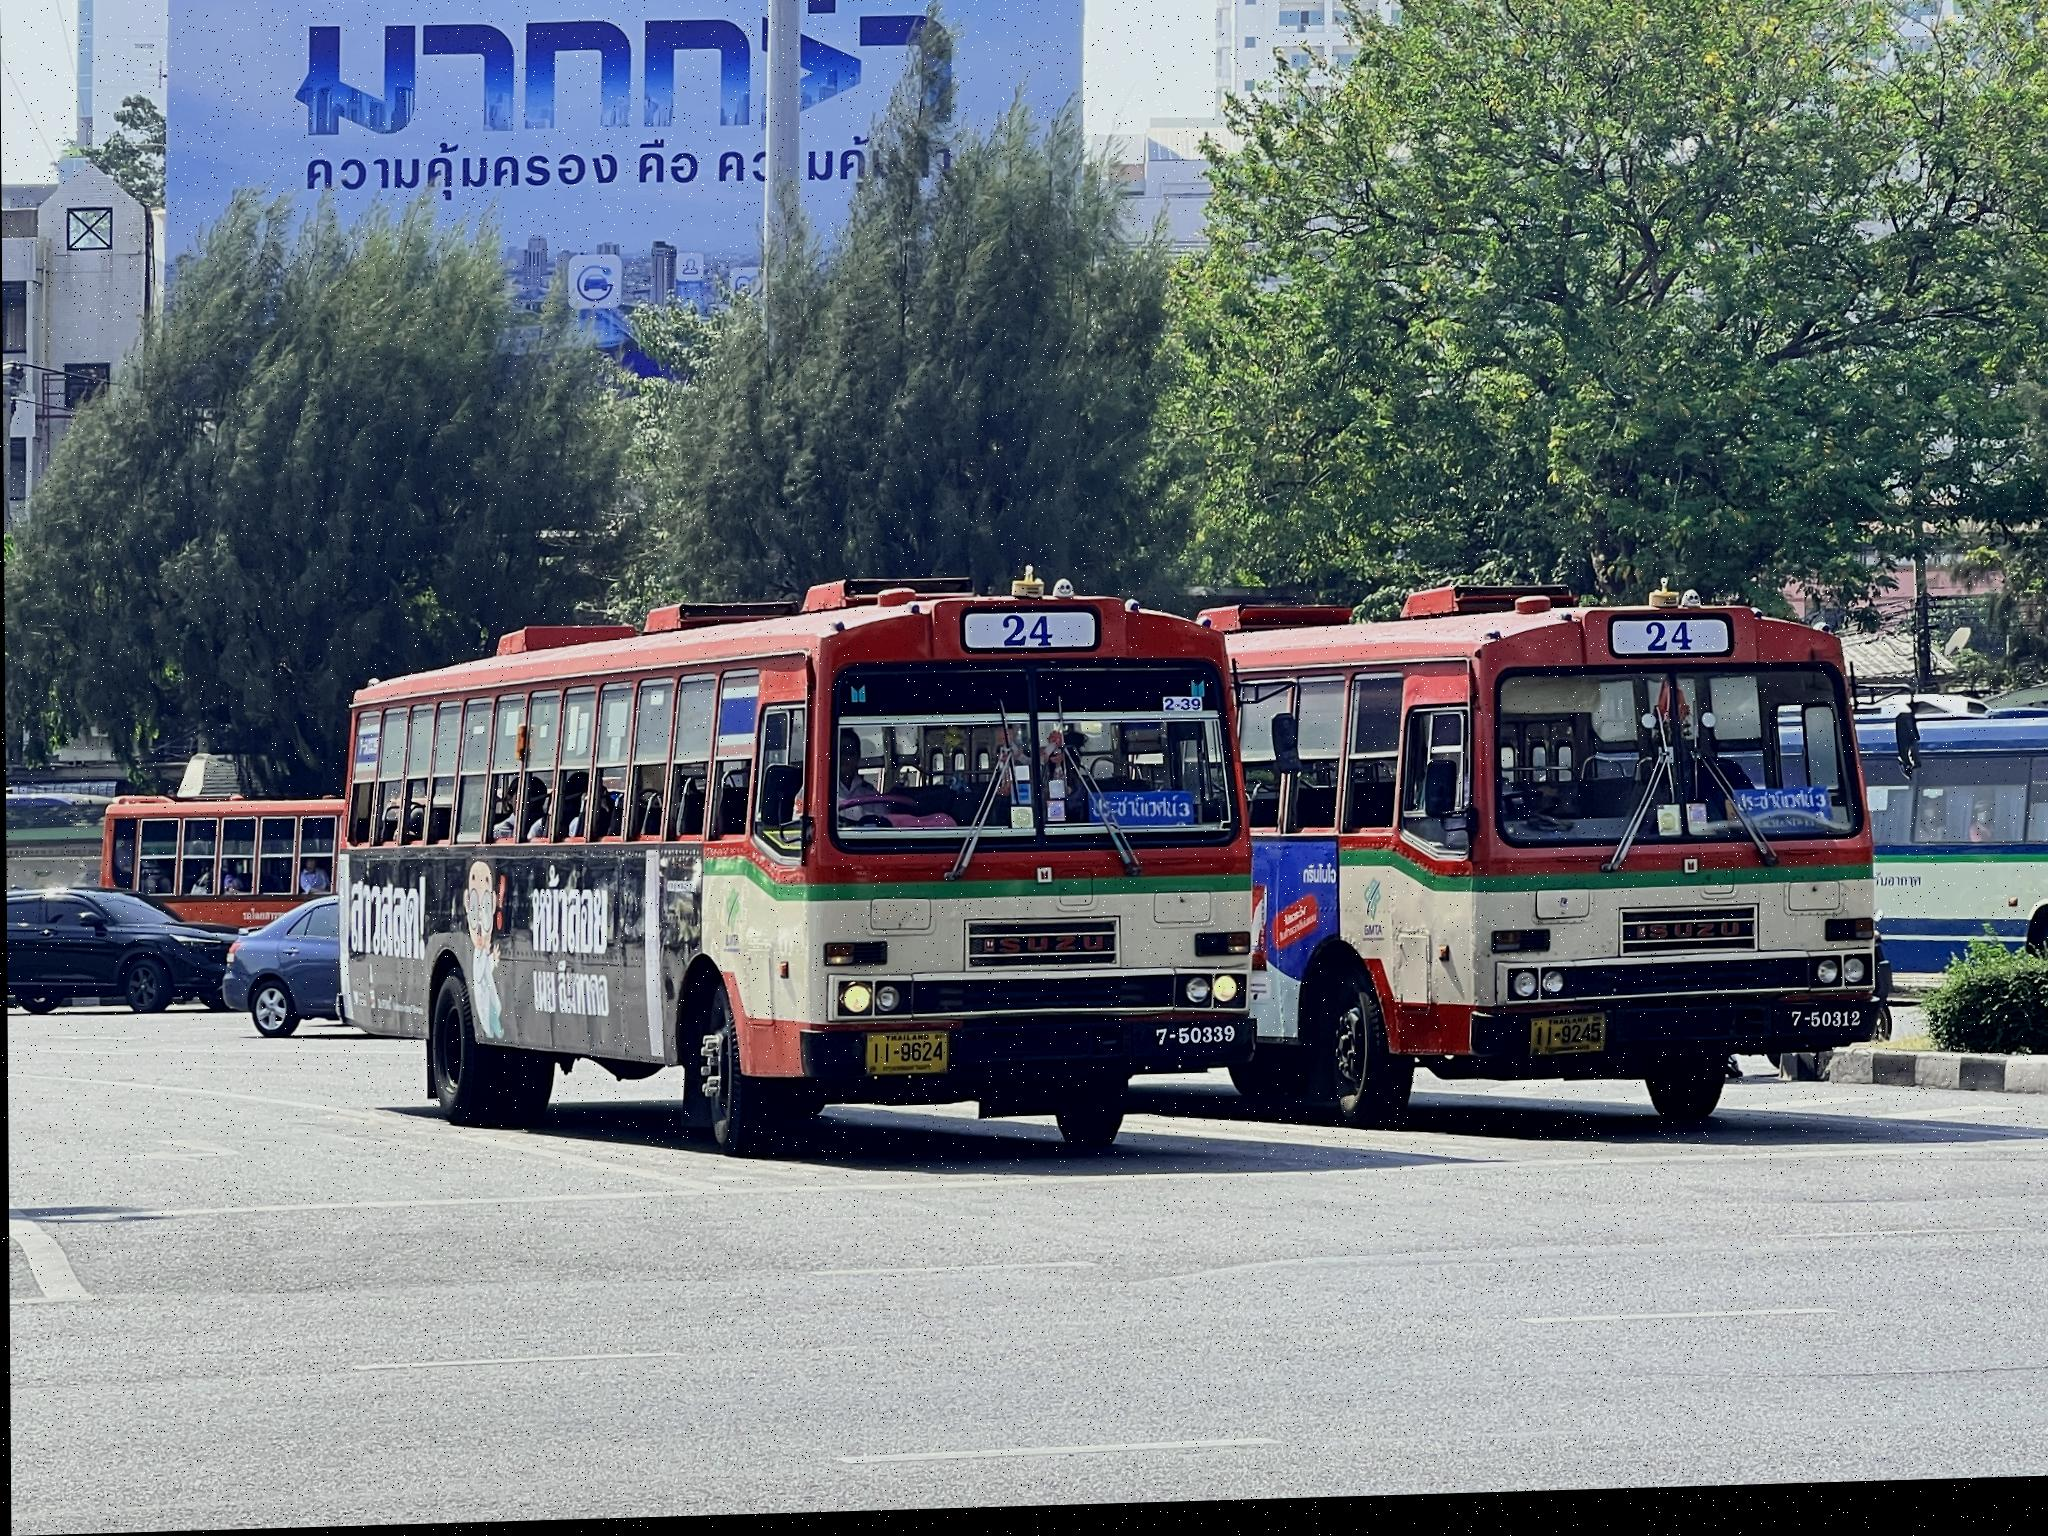BMTA-bus: (337, 586, 1261, 1160), (1214, 602, 1890, 1134)
Bus Line Number: (958, 611, 1101, 660), (1619, 629, 1734, 668)
Bus Side Number: (1148, 1025, 1238, 1057), (1784, 1016, 1863, 1042)
Destination Sign: (1729, 799, 1832, 845), (1085, 794, 1192, 836)
